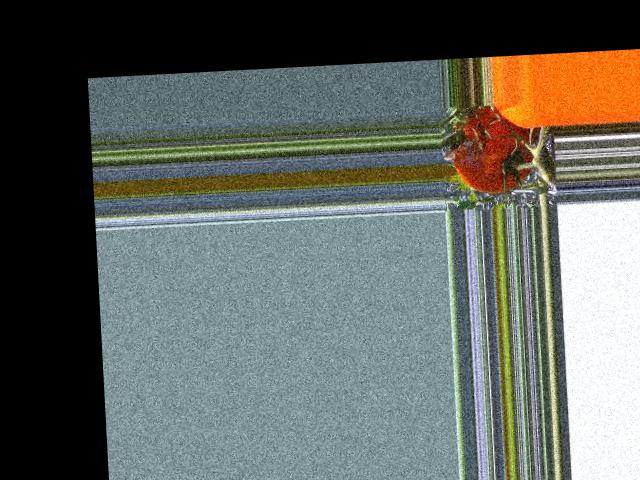tomato: (448, 104, 535, 195)
